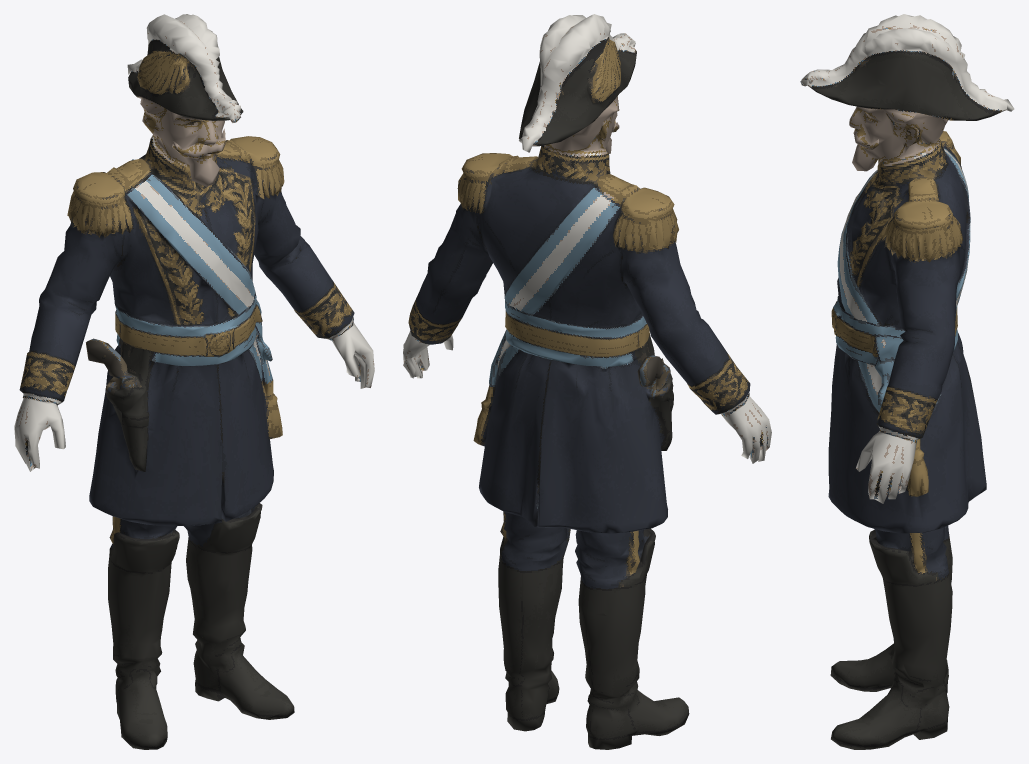
The model's file is roca.glb.
3 renders of one model, left to right at view 1: azimuth 30°, elevation 25°; view 2: azimuth 150°, elevation 25°; view 3: azimuth 270°, elevation 25°, orthographic. The views are drawn at different scales.
Parts seen in each view (by area): view 1: tripo_node_ea6d6acd-3a75-4cdc-9bd2-ef702f8c3527; view 2: tripo_node_ea6d6acd-3a75-4cdc-9bd2-ef702f8c3527; view 3: tripo_node_ea6d6acd-3a75-4cdc-9bd2-ef702f8c3527.
Boxes of the visible parts, x1,y1,x2,y2 form: tripo_node_ea6d6acd-3a75-4cdc-9bd2-ef702f8c3527: [14, 14, 374, 749]; tripo_node_ea6d6acd-3a75-4cdc-9bd2-ef702f8c3527: [403, 14, 771, 749]; tripo_node_ea6d6acd-3a75-4cdc-9bd2-ef702f8c3527: [800, 14, 1014, 749].
Size of the model in its own units: 0.5307 by 1 by 0.2803.
Materials: 1 (1 with a texture image).
